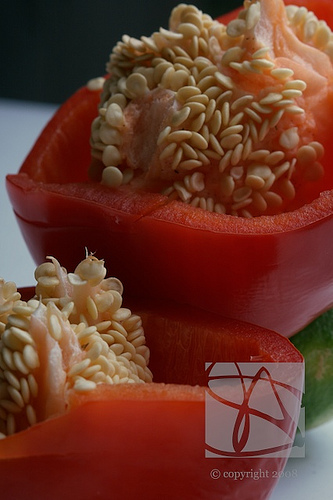capsicum: (8, 0, 331, 338), (0, 246, 305, 498)
